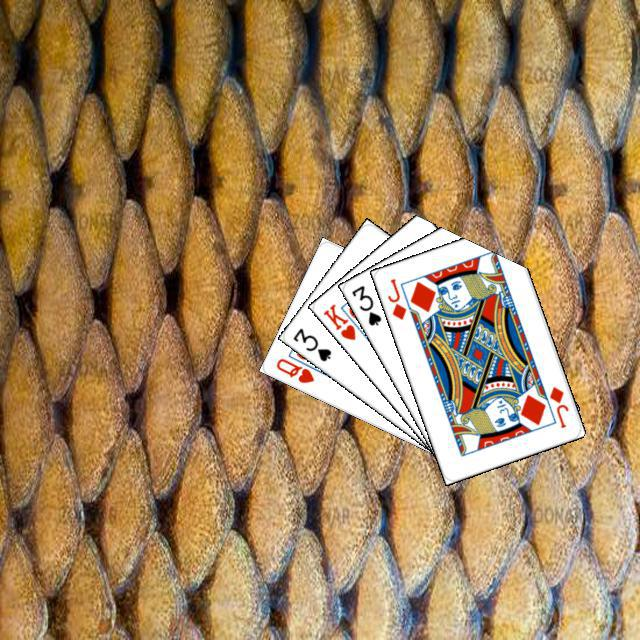3s: (288, 323, 333, 363), (347, 280, 383, 328)
Jd: (544, 381, 570, 430), (383, 273, 408, 322)
Kh: (318, 299, 367, 342)
Qh: (271, 353, 316, 385)
